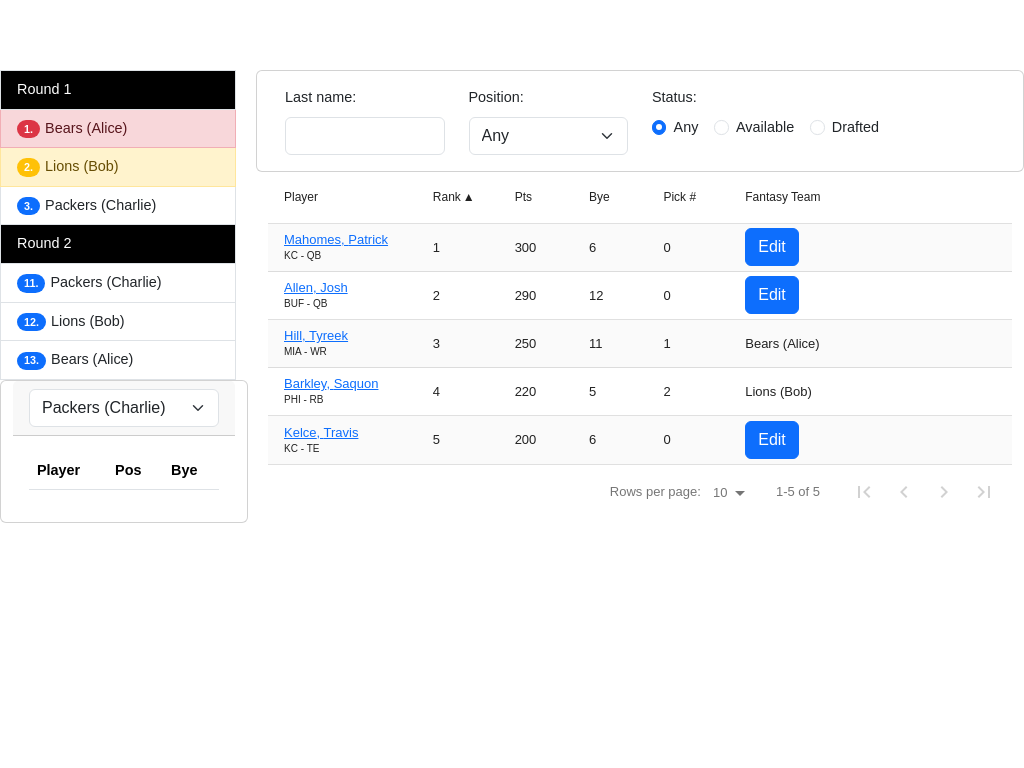
Test: Players › edit mode › clicking Edit opens modal with player name
What coordinates should you click on to do the following:
click the button "Edit" in the row of "Mahomes"
I would click on:
 (772, 247)
Its box is x1=745 y1=228 x2=799 y2=266.
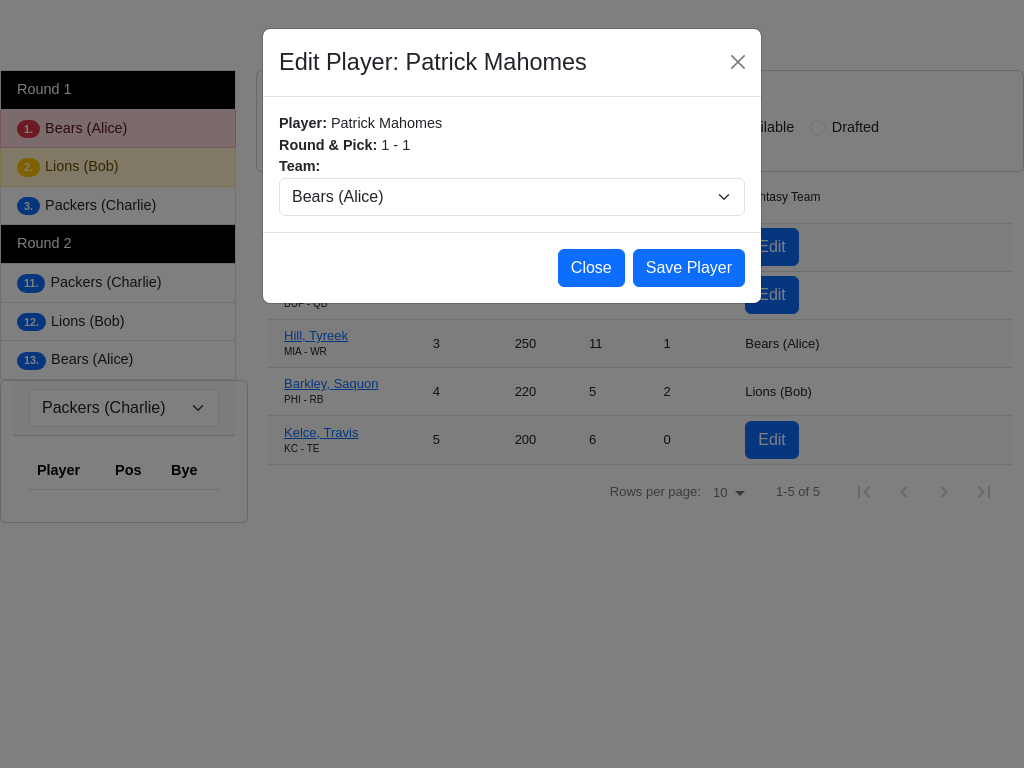
Expected: the text "Edit Player: Patrick Mahomes" is shown, x1=279 y1=45 x2=587 y2=80
